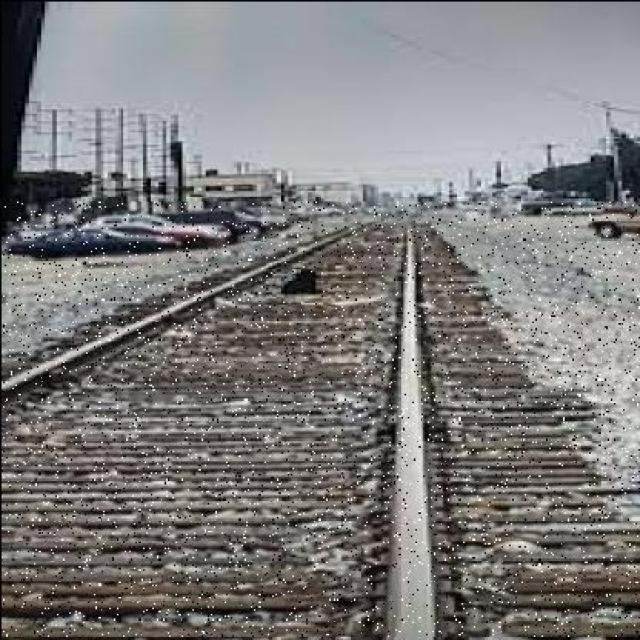danger: (264, 262, 340, 306)
rail: (2, 201, 639, 635)
